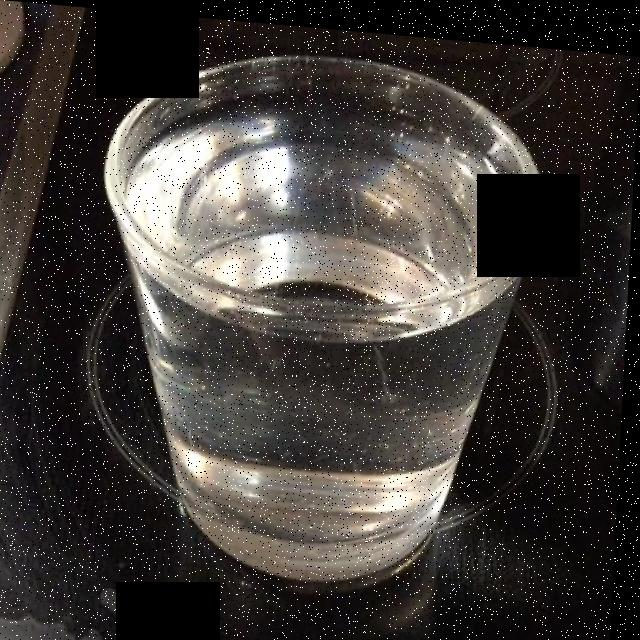water: (142, 77, 528, 545)
